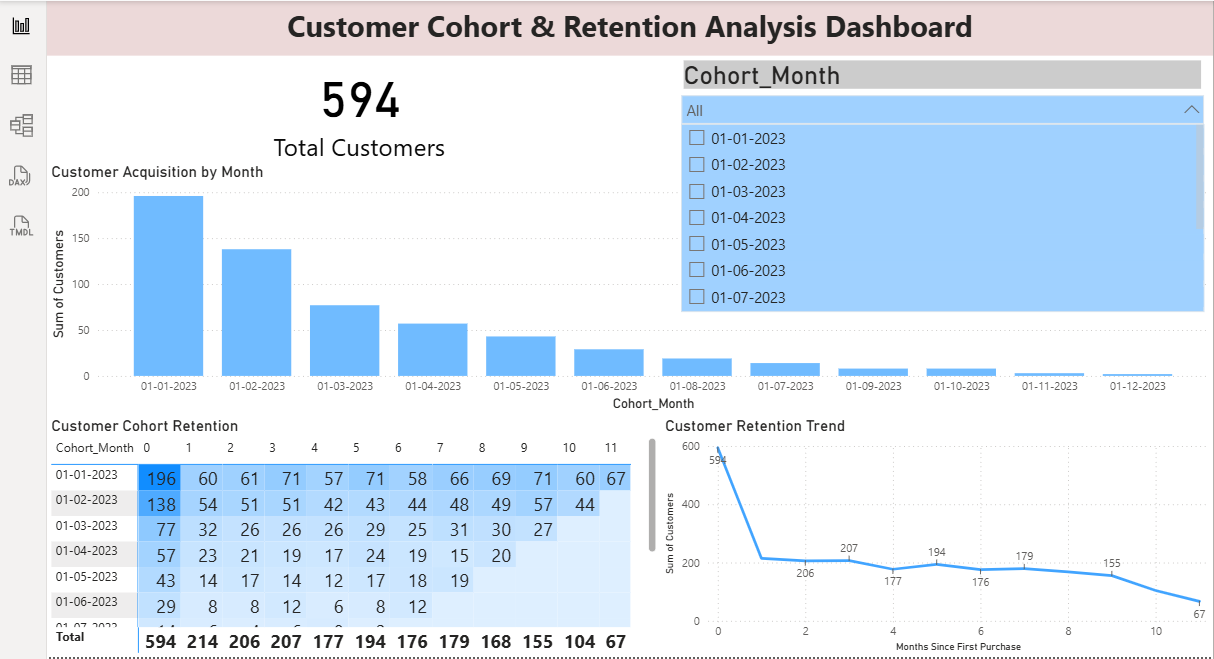

The dashboard page shown, as its layout file describes it:
{"tool":"powerbi","page":{"name":"Page 1","canvas":[1280,720],"ordinal":0},"visuals":[{"type":"pivotTable","title":"Customer Cohort Retention","fields":{"Rows":["cohort_retention_matrix.Cohort_Month"],"Columns":["cohort_retention_matrix.Month_Index"],"Values":["Sum(cohort_retention_matrix.Customers)"]},"box":[0,455.6,673.8,264.8],"z":0},{"type":"clusteredColumnChart","title":"Customer Acquisition by Month","fields":{"Category":["cohort_retention_matrix.Cohort_Month"],"Y":["Sum(cohort_retention_matrix.Customers)"]},"box":[0,177,1280.3,278.6],"z":1000},{"type":"card","title":"Total Customers","fields":{"Values":["Sum(cohort_retention_matrix.Customers)"]},"box":[0,60.4,686.1,116.6],"z":2000},{"type":"textbox","box":[0,0,1280.3,60.4],"z":3000},{"type":"slicer","fields":{"Values":["cohort_retention_matrix.Cohort_Month"]},"box":[686.1,60.4,594.2,116.6],"z":4000},{"type":"lineChart","title":"Customer Retention Trend","fields":{"Category":["cohort_retention_matrix.Month_Index"],"Y":["Sum(cohort_retention_matrix.Customers)"]},"box":[673.8,455.6,606.5,264.8],"z":5000}]}

Visuals, with their boxes on the page's 1280x720 design canvas (x1, y1, x2, y2). These are canvas units, not pixel positions in the 1214x659 screenshot, which may show the page scaled, cropped or inside an application window:
"Customer Cohort Retention" pivotTable: bbox=[0, 456, 674, 720]
"Customer Acquisition by Month" clusteredColumnChart: bbox=[0, 177, 1280, 456]
"Total Customers" card: bbox=[0, 60, 686, 177]
textbox: bbox=[0, 0, 1280, 60]
slicer - cohort_retention_matrix.Cohort_Month: bbox=[686, 60, 1280, 177]
"Customer Retention Trend" lineChart: bbox=[674, 456, 1280, 720]
